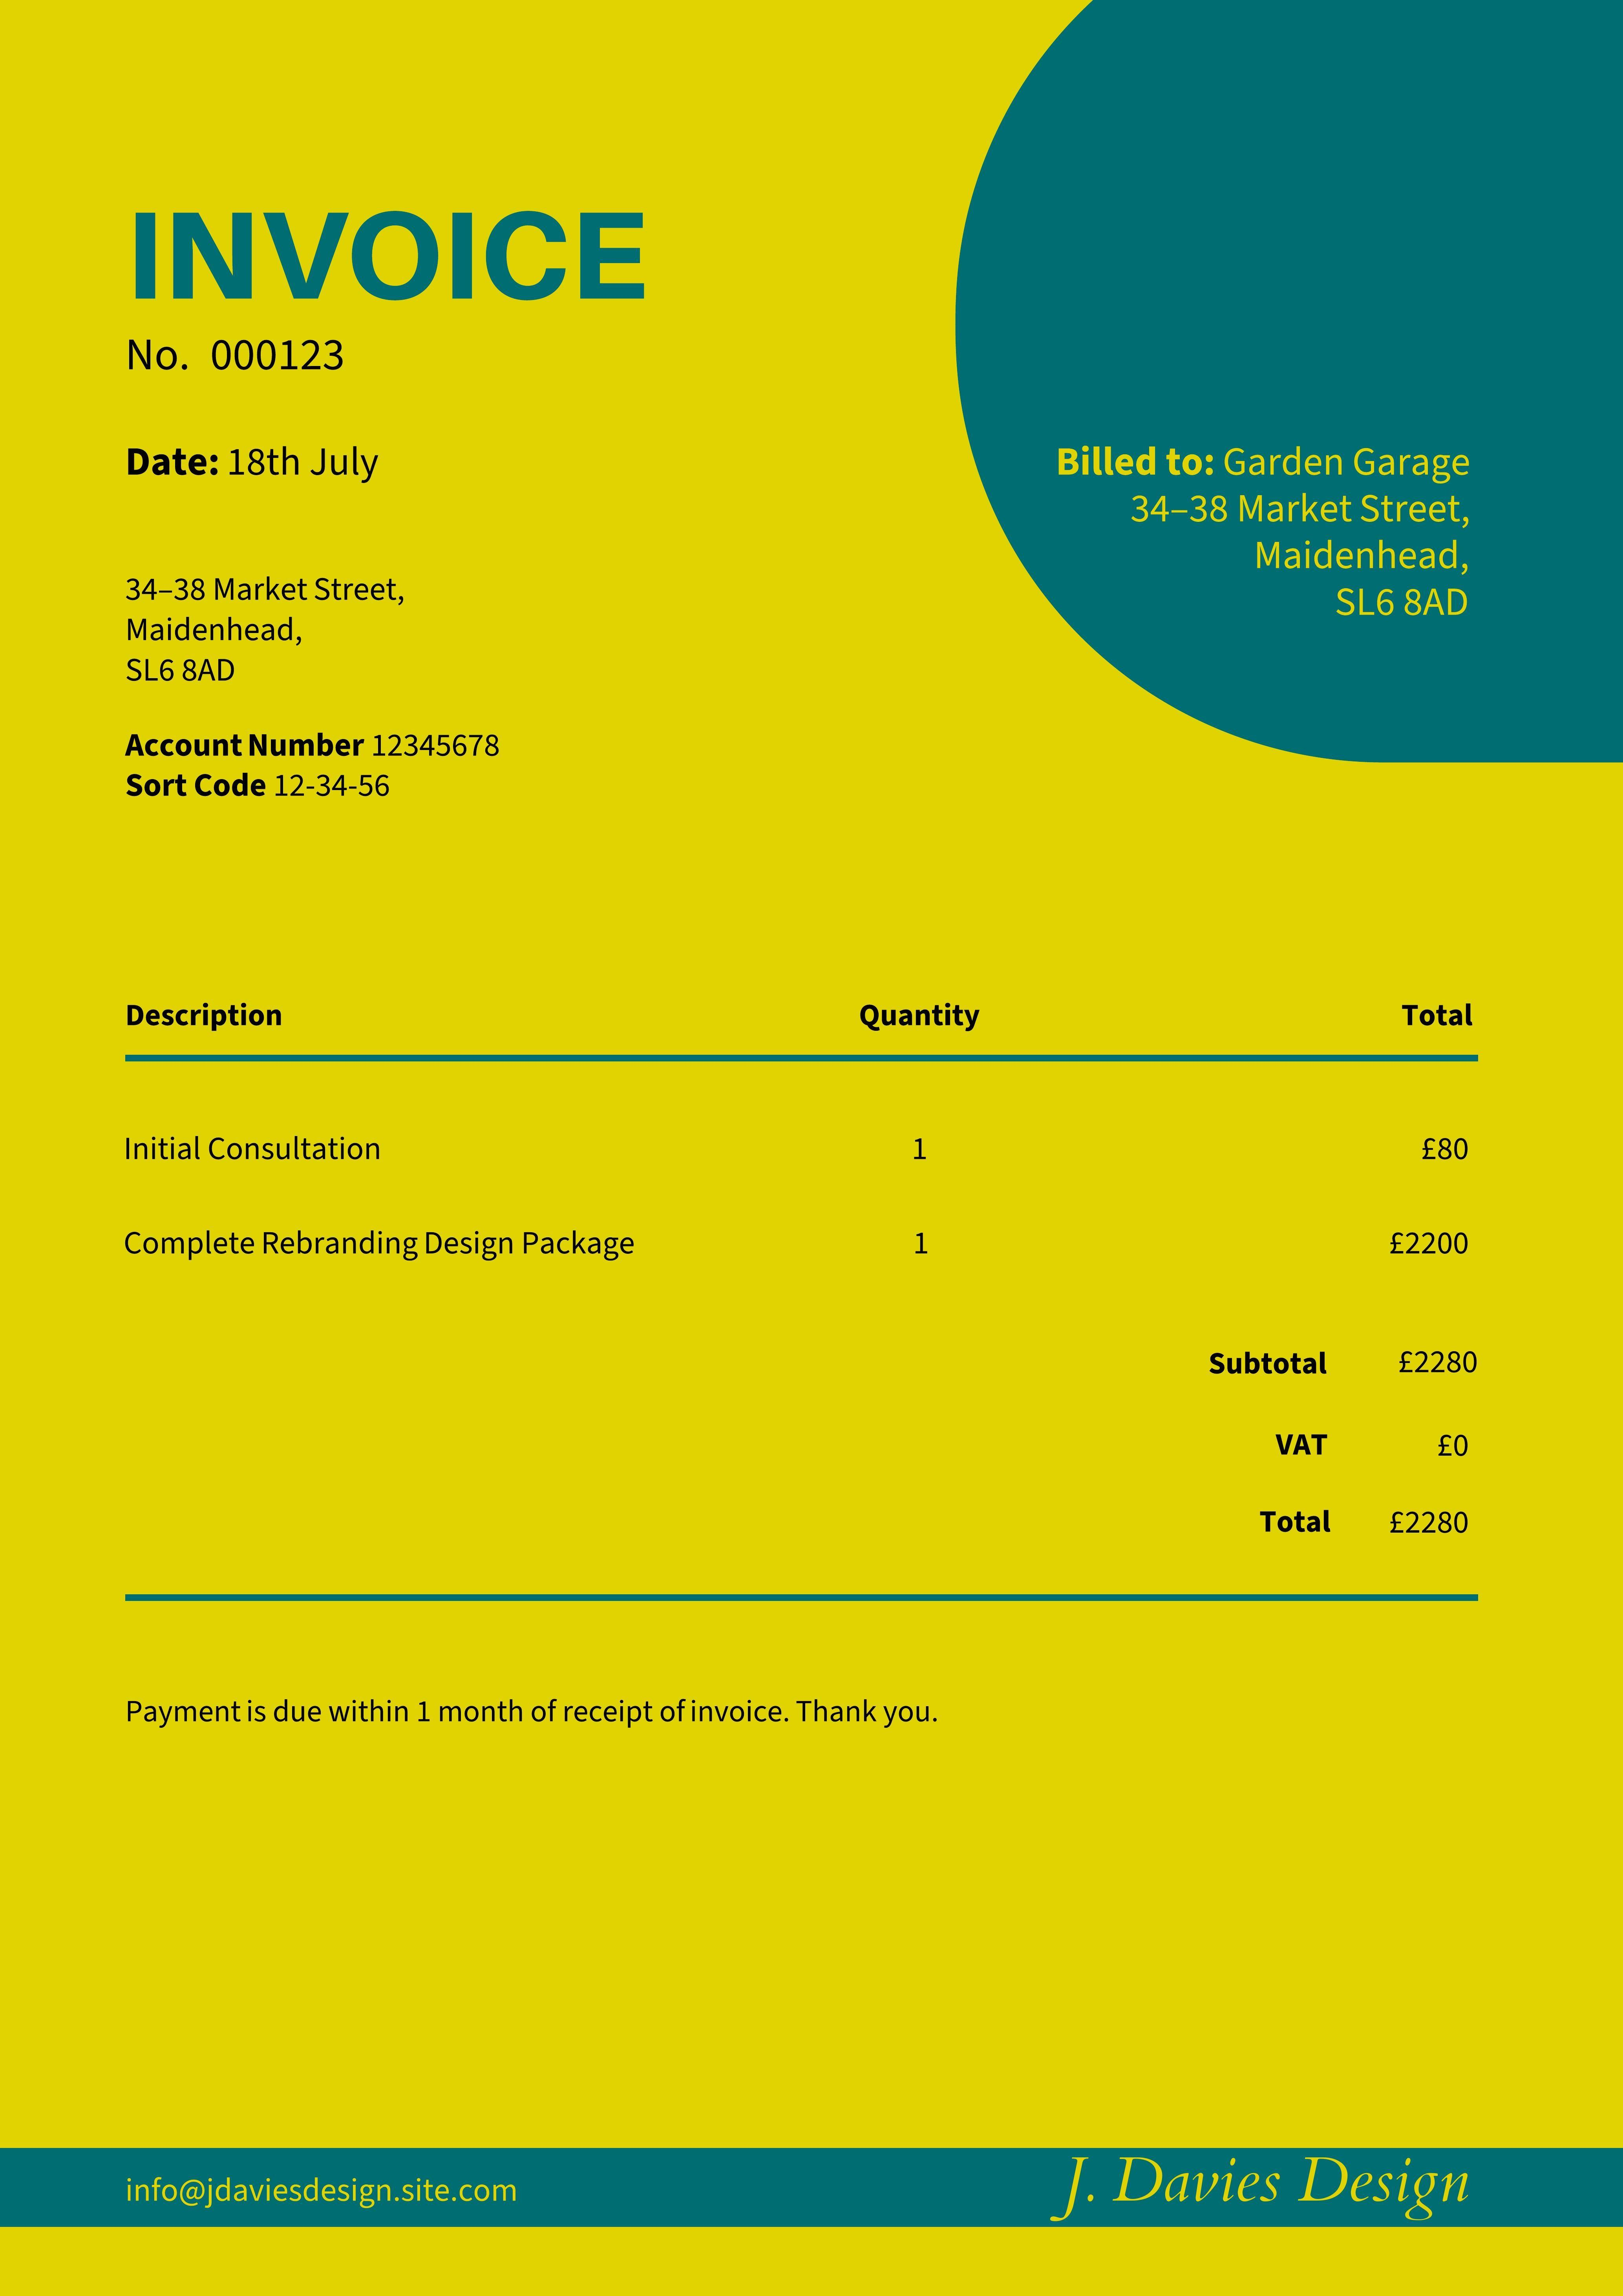ROI: (121, 998, 1493, 1281), (1043, 441, 1484, 622), (1200, 1346, 1482, 1546), (109, 1685, 1008, 1744), (128, 314, 408, 502), (1031, 2145, 1495, 2229), (111, 727, 522, 805)
